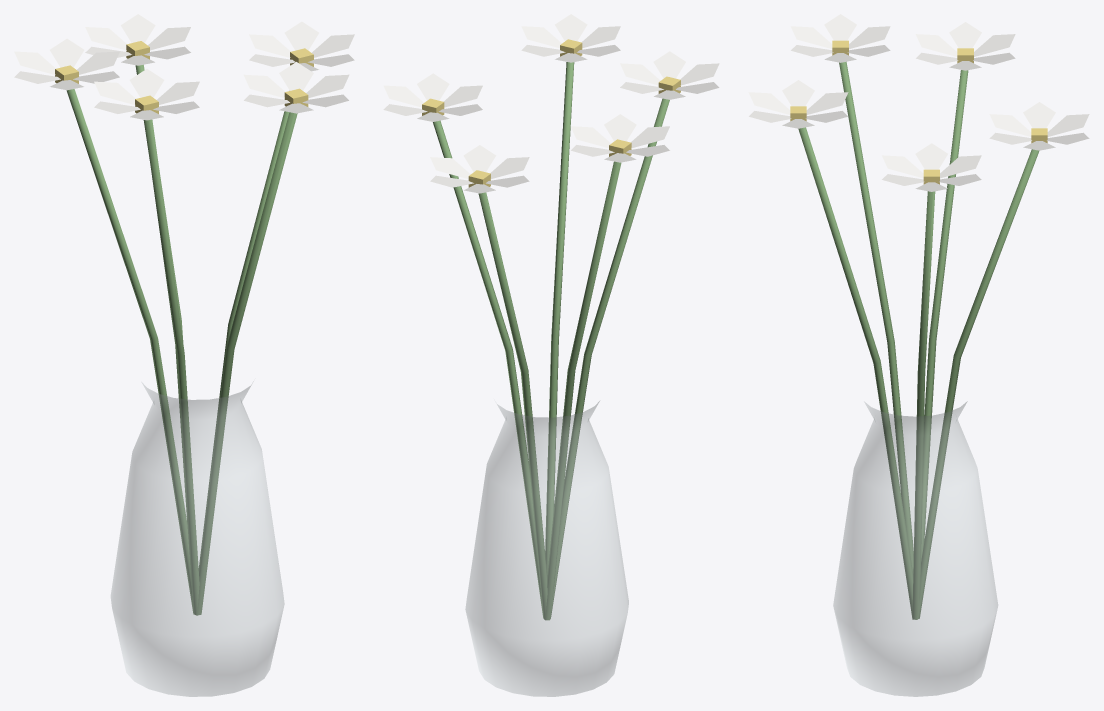
Rendered from flower_vase.glb.
The picture shows the model from 3 angles, left to right: view 1: azimuth 30°, elevation 25°; view 2: azimuth 150°, elevation 25°; view 3: azimuth 270°, elevation 25°; orthographic projection. The views are drawn at different scales.
Visible parts, largest first — view 1: FlowerVase; view 2: FlowerVase; view 3: FlowerVase.
Boxes of the visible parts, x1,y1,x2,y2 form: FlowerVase: [14, 14, 354, 696]; FlowerVase: [383, 14, 719, 696]; FlowerVase: [748, 14, 1089, 696].
Size of the model in its own units: 0.2556 by 0.4711 by 0.2478.
